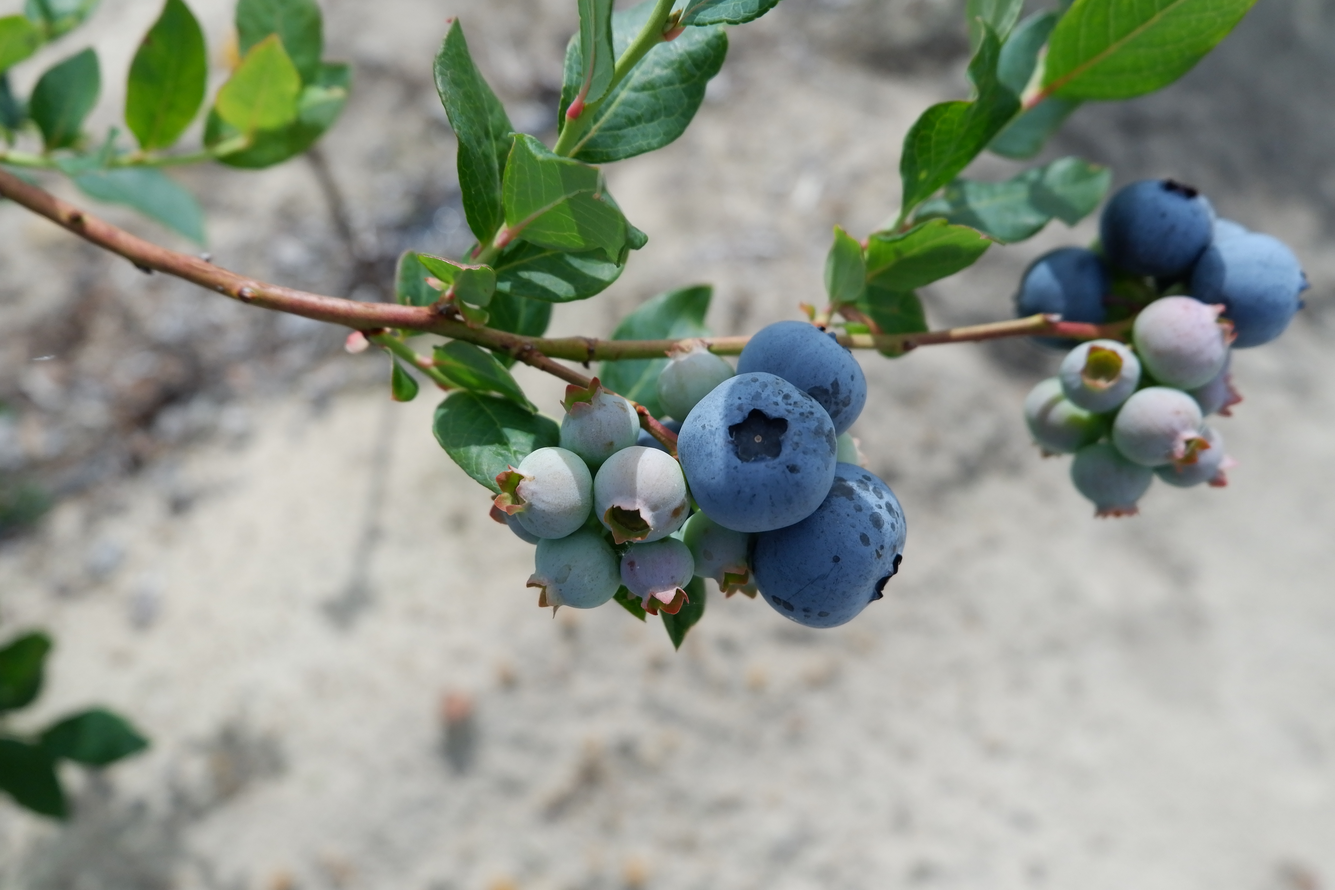Immature: (494, 450, 592, 538), (1137, 298, 1230, 387), (597, 447, 686, 540), (529, 526, 618, 606), (1115, 389, 1202, 465), (562, 387, 636, 464), (1074, 443, 1152, 516), (1030, 379, 1107, 451), (1063, 341, 1139, 411), (659, 350, 734, 419), (684, 515, 752, 591), (622, 540, 693, 611), (1156, 425, 1232, 485), (1192, 361, 1241, 417), (839, 437, 867, 467)
Mature: (752, 465, 904, 625), (679, 375, 833, 527), (1180, 227, 1305, 345), (740, 323, 865, 433), (1103, 181, 1212, 276), (1021, 250, 1114, 356), (636, 417, 685, 463)
